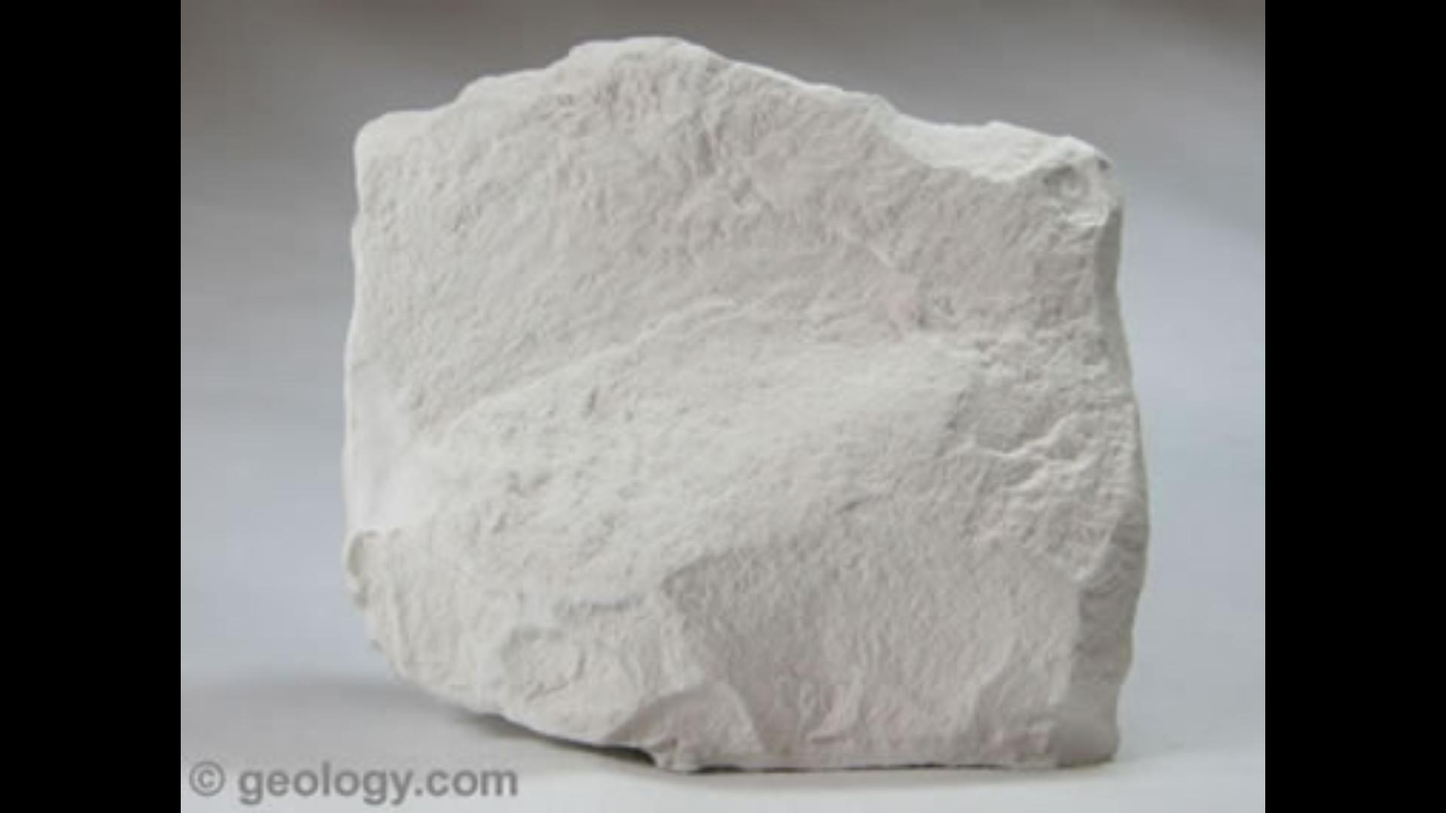rock: (346, 40, 1145, 767)
